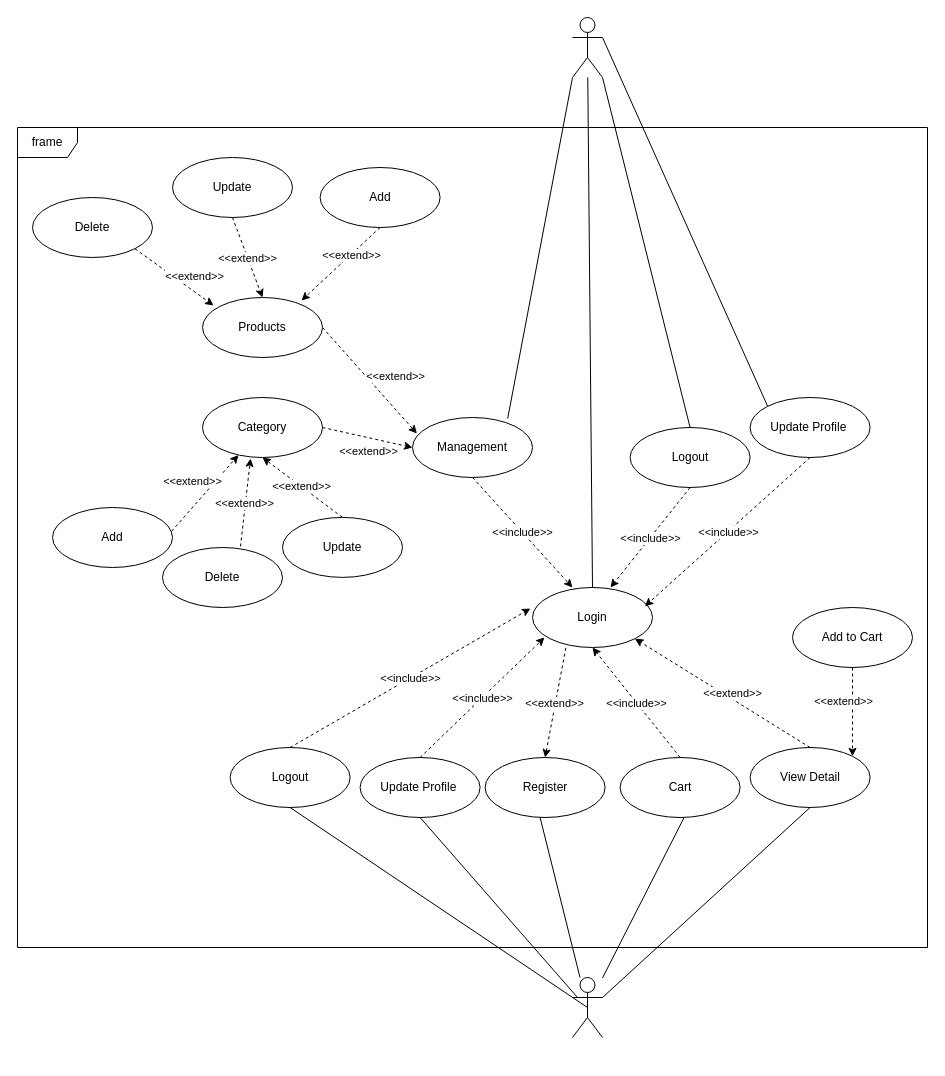
Some shapes in this 945 by 1076 pixel diagram are drawn without their labels. The shapes that lost their labels are listed below. From the top down, each one's box as (x1, y1, x2, y2) in pixels, then its label:
(572, 16, 602, 78): Admin
(572, 976, 602, 1038): Customer
